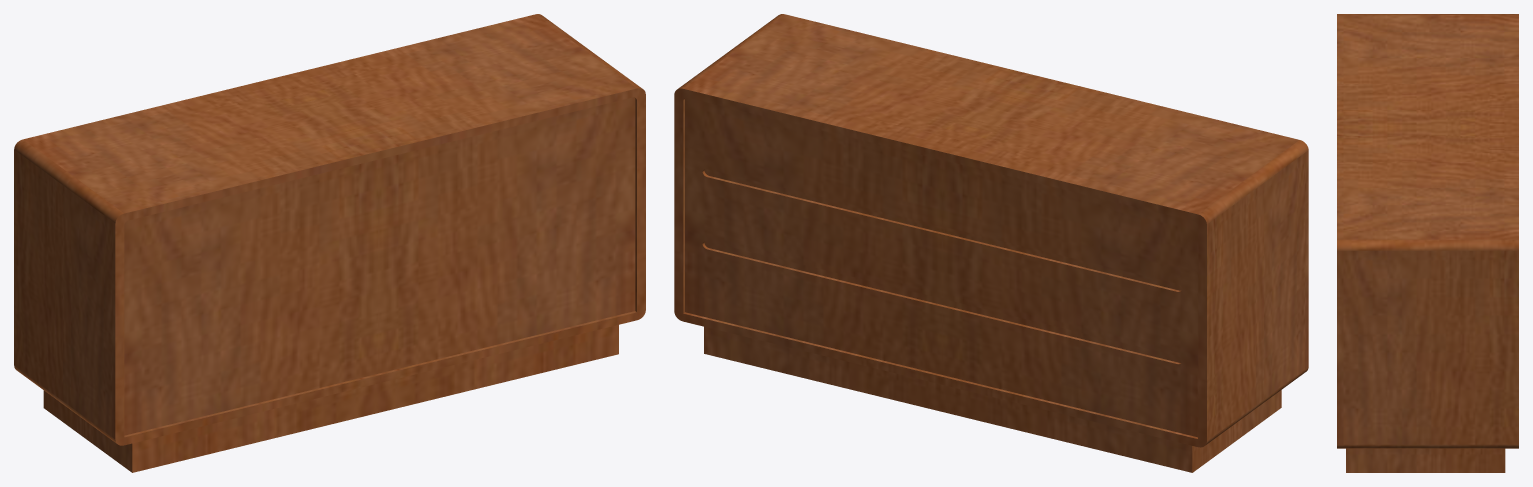
3 renders of one model, left to right at view 1: azimuth 30°, elevation 25°; view 2: azimuth 150°, elevation 25°; view 3: azimuth 270°, elevation 25°, orthographic. The views are drawn at different scales.
Visible parts, largest first — view 1: mesh1_mesh1-geometry, mesh13_mesh13-geometry; view 2: mesh1_mesh1-geometry, mesh13_mesh13-geometry; view 3: mesh13_mesh13-geometry, mesh1_mesh1-geometry.
Part boxes in pixels (left/top/right/bottom): mesh1_mesh1-geometry: left=14, top=77, right=380, bottom=472; mesh13_mesh13-geometry: left=279, top=14, right=645, bottom=413; mesh1_mesh1-geometry: left=940, top=77, right=1308, bottom=472; mesh13_mesh13-geometry: left=674, top=14, right=1041, bottom=413; mesh13_mesh13-geometry: left=1337, top=127, right=1518, bottom=472; mesh1_mesh1-geometry: left=1337, top=14, right=1518, bottom=127.
Size of the model in its own units: 0.864 by 0.4146 by 0.2859.
Materials: 2 (1 with a texture image).
